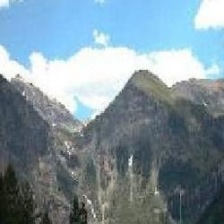neutral: (3, 23, 222, 221)
